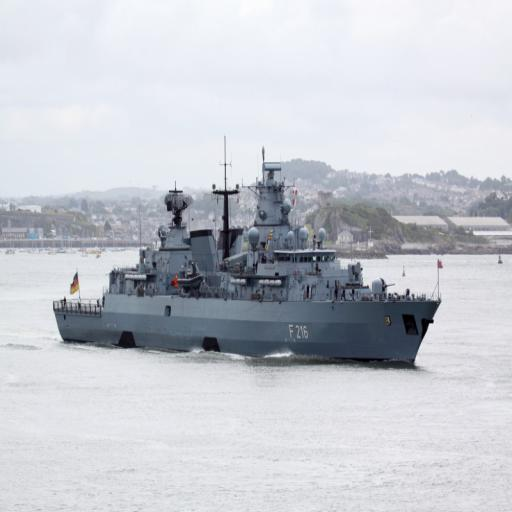Fragata: (51, 132, 447, 375)
